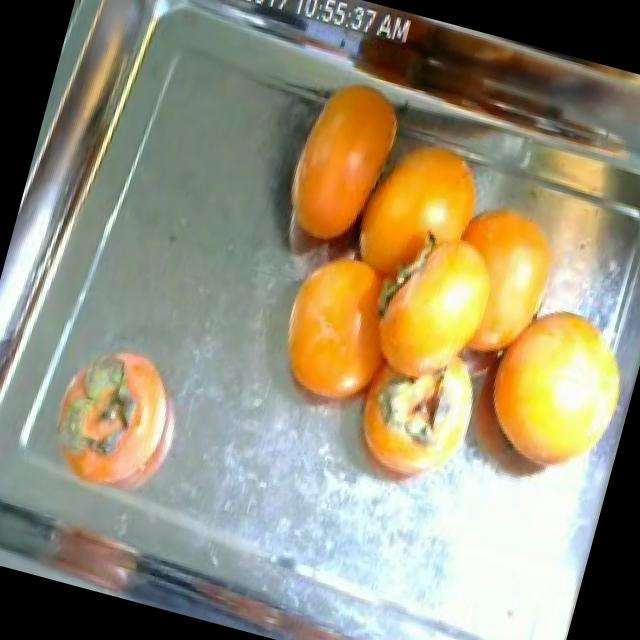Fruit: (454, 272, 640, 505), (26, 318, 208, 517), (256, 54, 412, 270)
